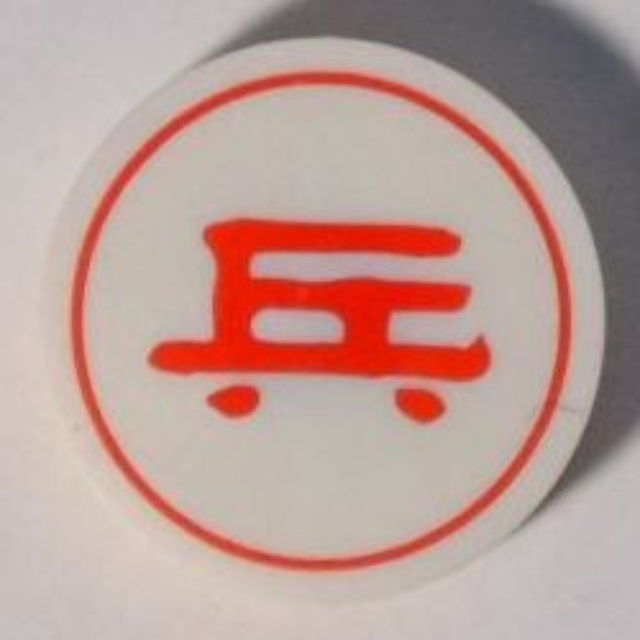red_chot: (36, 35, 620, 594)
